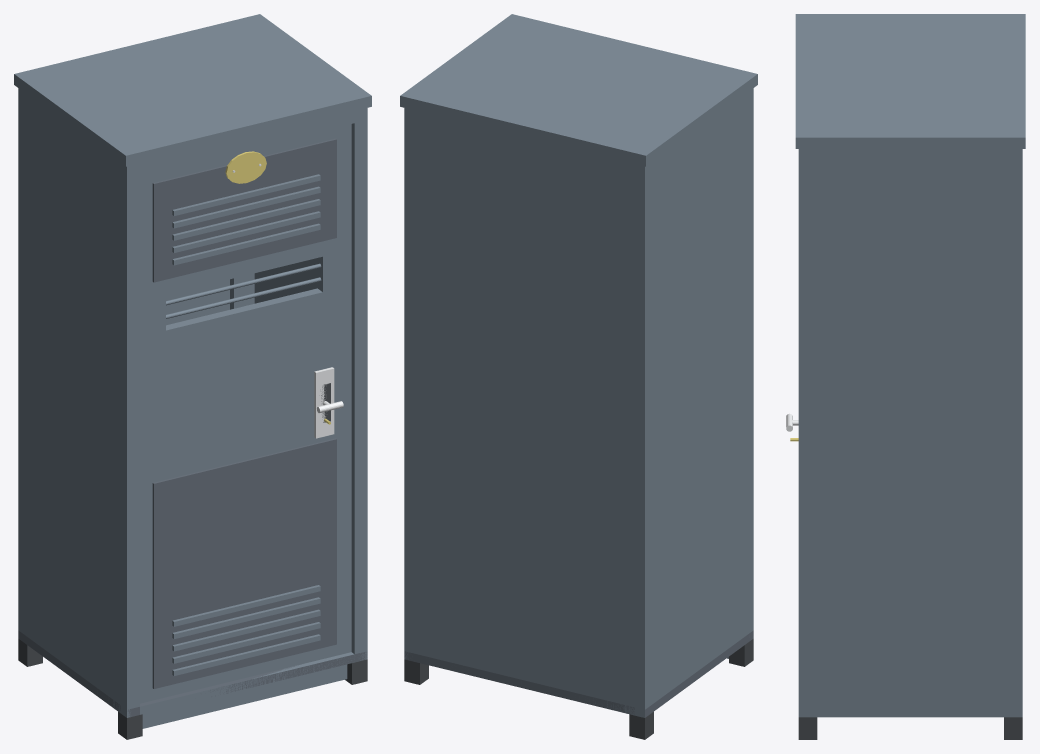
File: locker_detailed.glb
The picture shows the model from 3 angles, left to right: view 1: azimuth 30°, elevation 25°; view 2: azimuth 150°, elevation 25°; view 3: azimuth 270°, elevation 25°; orthographic projection. The views are drawn at different scales.
Parts seen in each view (by area): view 1: Locker_LeftWall, Locker_Door_Lower, Locker_Recess_Lower, Locker_Roof, Locker_Recess_Upper, Locker_Frame_Left, Locker_Door_Upper, Locker_RightWall, Locker_Frame_Right, Locker_ToeKick, Locker_Frame_Top, Locker_Floor (+18 smaller); view 2: Locker_BackWall, Locker_LeftWall, Locker_Roof, Locker_RightWall, Locker_Frame_Left, Locker_Floor; view 3: Locker_RightWall, Locker_Roof, Locker_Frame_Right, Locker_Foot_0.43000000000000005_-0.32999999999999996, Locker_Foot_0.43000000000000005_0.32999999999999996.
Part boxes in pixels (box(x1,y1,x2,y2)): Locker_LeftWall: box(18, 88, 137, 717); Locker_Door_Lower: box(140, 285, 351, 703); Locker_Recess_Lower: box(152, 438, 336, 688); Locker_Roof: box(14, 14, 371, 166); Locker_Recess_Upper: box(152, 138, 336, 282); Locker_Frame_Left: box(121, 163, 139, 717); Locker_Door_Upper: box(140, 124, 351, 301); Locker_RightWall: box(254, 108, 367, 660); Locker_Frame_Right: box(351, 108, 367, 654); Locker_ToeKick: box(142, 664, 347, 728); Locker_Frame_Top: box(140, 111, 354, 175); Locker_Floor: box(18, 630, 367, 717); Locker_BackWall: box(414, 110, 634, 715); Locker_LeftWall: box(634, 89, 753, 717); Locker_Roof: box(400, 14, 757, 166); Locker_RightWall: box(404, 108, 414, 660); Locker_Frame_Left: box(747, 88, 753, 634); Locker_Floor: box(404, 630, 753, 717); Locker_RightWall: box(798, 149, 1022, 717); Locker_Roof: box(795, 14, 1025, 148); Locker_Frame_Right: box(798, 149, 810, 717); Locker_Foot_0.43000000000000005_-0.32999999999999996: box(798, 717, 817, 739); Locker_Foot_0.43000000000000005_0.32999999999999996: box(1004, 717, 1022, 739).
Size of the model in its own units: 0.94 by 2.14 by 0.77.
